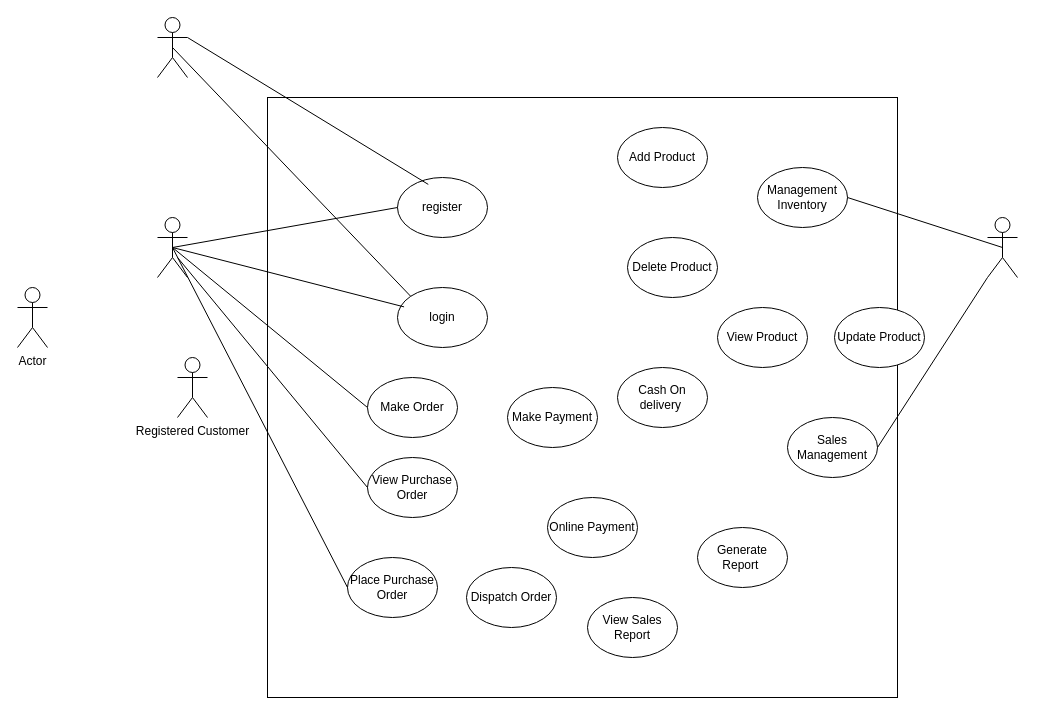
The diagram is 1037 pixels wide and 715 high, and some of its shapes have lost their labels. Each missing label, with the centre of its shape:
"Admin" belongs at point 1002,247.
"Customer" belongs at point 172,247.
"Staff" belongs at point 172,47.
